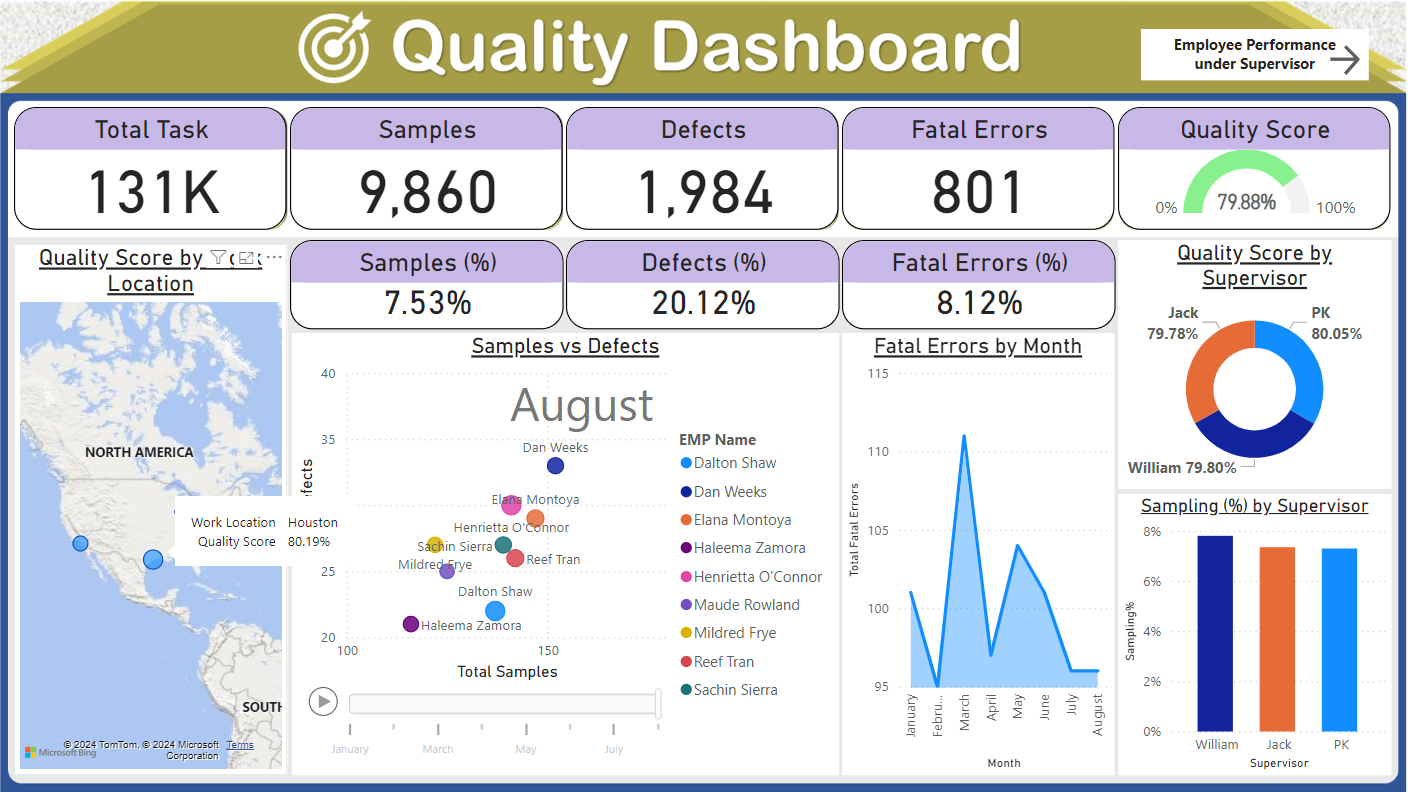

This screenshot's page, from the dashboard's own definition file:
{"tool":"powerbi","page":{"name":"Quality Dashboard","canvas":[1280,720],"ordinal":0},"visuals":[{"type":"image","box":[0,0,1280,719.7],"z":0},{"type":"card","title":"Total Task","fields":{"Values":["Quality Data.Total Tasks"]},"box":[23.3,101.6,244.5,109.9],"z":1000},{"type":"card","title":"Samples","fields":{"Values":["Quality Data.Total Samples"]},"box":[270.6,101.6,244.5,109.9],"z":2000},{"type":"card","title":"Defects","fields":{"Values":["Quality Data.Total Defects"]},"box":[517.8,101.6,244.5,109.9],"z":3000},{"type":"card","title":"Fatal Errors","fields":{"Values":["Quality Data.Total Fatal Errors"]},"box":[765,101.6,244.5,109.9],"z":4000},{"type":"gauge","title":"Quality Score","fields":{"Y":["Quality Data.Quality Score"]},"box":[1012.2,101.6,244.5,109.9],"z":5000},{"type":"card","title":"Samples (%)","fields":{"Values":["Quality Data.Sampling%"]},"box":[270.2,220.7,244.8,79.6],"z":6000},{"type":"card","title":"Defects (%)","fields":{"Values":["Quality Data.Defect%"]},"box":[517.4,220.7,244.8,79.6],"z":7000},{"type":"card","title":"Fatal Errors (%)","fields":{"Values":["Quality Data.Fatal Error%"]},"box":[764.6,220.7,244.8,79.6],"z":8000},{"type":"scatterChart","title":"Samples vs Defects","fields":{"X":["Quality Data.Total Samples"],"Series":["Emp Master.EMP Name"],"Y":["Quality Data.Total Defects"],"Size":["Quality Data.Total Fatal Errors"],"Play":["Quality Data.Date.Variation.Date Hierarchy.Month"]},"box":[272.6,303.9,489.6,395.6],"z":9000},{"type":"areaChart","title":"Fatal Errors by Month","fields":{"Y":["Quality Data.Total Fatal Errors"],"Category":["Quality Data.Date.Variation.Date Hierarchy.Month"]},"box":[764.6,303.9,243.6,395.6],"z":10000},{"type":"donutChart","fields":{"Y":["Quality Data.Quality Score"],"Category":["Emp Master.Supervisor"]},"box":[1011.9,220.7,244.8,223.1],"z":11000},{"type":"clusteredColumnChart","title":"Sampling (%) by Supervisor","fields":{"Y":["Quality Data.Sampling%"],"Category":["Emp Master.Supervisor"]},"box":[1011.9,447.4,244.8,252.1],"z":12000},{"type":"map","fields":{"Category":["Emp Master.Work Location"],"Size":["Quality Data.Quality Score"]},"box":[22.9,224.3,244.8,475.2],"z":13000},{"type":"textbox","box":[1032.4,31.4,203.8,45.8],"z":14000},{"type":"actionButton","box":[1196.4,41,39.8,36.2],"z":15000}]}

Visuals, with their boxes in screenshot pixels (x1, y1, x2, y2), scaled from the page's 1280x720 canvas onto the 1408x792 screenshot:
image: crop(0, 0, 1407, 791)
"Total Task" card: crop(26, 112, 295, 233)
"Samples" card: crop(298, 112, 567, 233)
"Defects" card: crop(570, 112, 839, 233)
"Fatal Errors" card: crop(842, 112, 1110, 233)
"Quality Score" gauge: crop(1113, 112, 1382, 233)
"Samples (%)" card: crop(297, 243, 566, 330)
"Defects (%)" card: crop(569, 243, 838, 330)
"Fatal Errors (%)" card: crop(841, 243, 1110, 330)
"Samples vs Defects" scatterChart: crop(300, 334, 838, 769)
"Fatal Errors by Month" areaChart: crop(841, 334, 1109, 769)
donutChart - Quality Data.Quality Score x Emp Master.Supervisor: crop(1113, 243, 1382, 488)
"Sampling (%) by Supervisor" clusteredColumnChart: crop(1113, 492, 1382, 769)
map - Emp Master.Work Location x Quality Data.Quality Score: crop(25, 247, 294, 769)
textbox: crop(1136, 35, 1360, 85)
actionButton: crop(1316, 45, 1360, 85)
